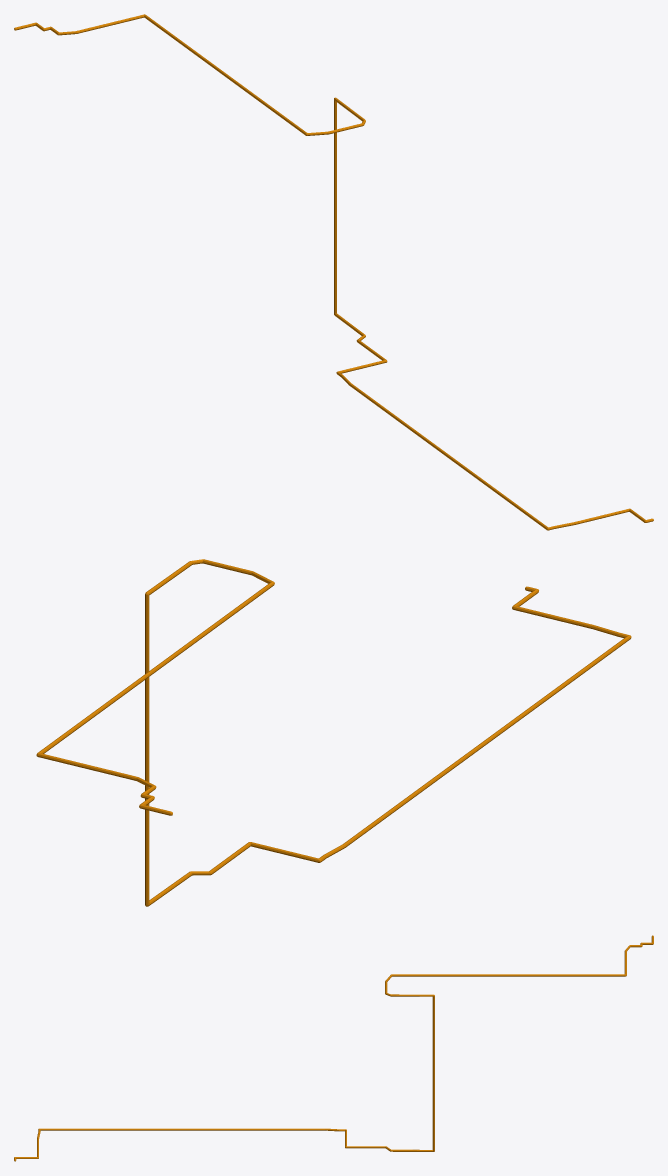
The picture shows the model from 3 angles, top to bottom: view 1: azimuth 30°, elevation 25°; view 2: azimuth 150°, elevation 25°; view 3: azimuth 270°, elevation 25°; orthographic projection. The views are drawn at different scales.
Bounding box in the file's own units: 1444 × 1520 × 5605.
